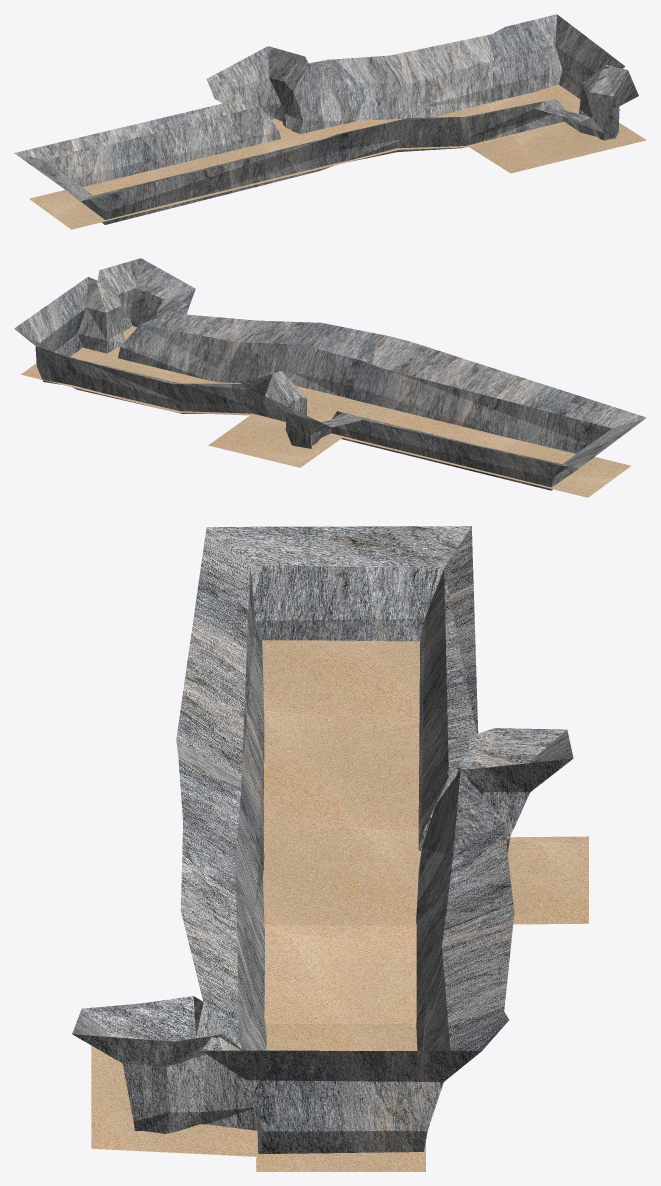
File: tutorial map.glb
3 views of the same model, one above another, from view 1: azimuth 30°, elevation 25°; view 2: azimuth 150°, elevation 25°; view 3: azimuth 270°, elevation 25° (orthographic). The views are drawn at different scales.
Parts seen in each view (by area): view 1: Plane.001, Plane; view 2: Plane.001, Plane; view 3: Plane.001, Plane.
Boxes of the visible parts, box(x1,y1,x2,y2) form: Plane.001: box(14, 14, 638, 224); Plane: box(29, 84, 646, 229); Plane.001: box(14, 258, 646, 490); Plane: box(21, 326, 631, 497); Plane.001: box(72, 526, 573, 1153); Plane: box(91, 640, 588, 1171).
Bounding box in the file's own units: 16.8 × 2.29 × 6.8.
2 materials, 2 textured.
